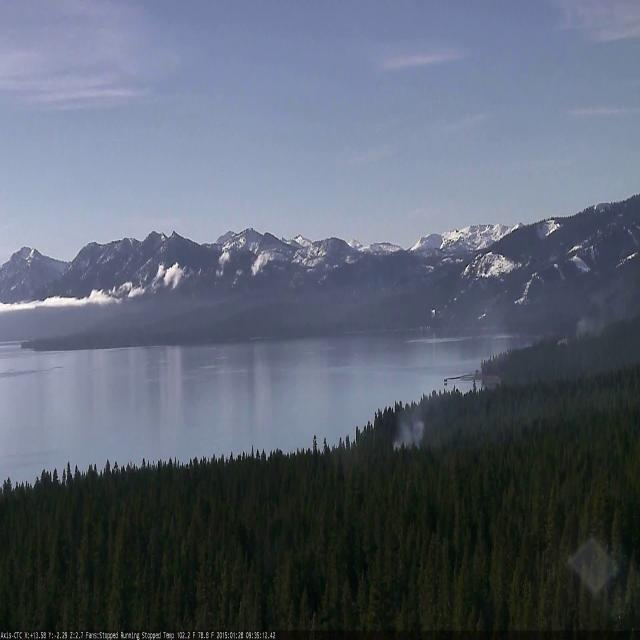smoke: (383, 358, 489, 474), (550, 263, 640, 357)
